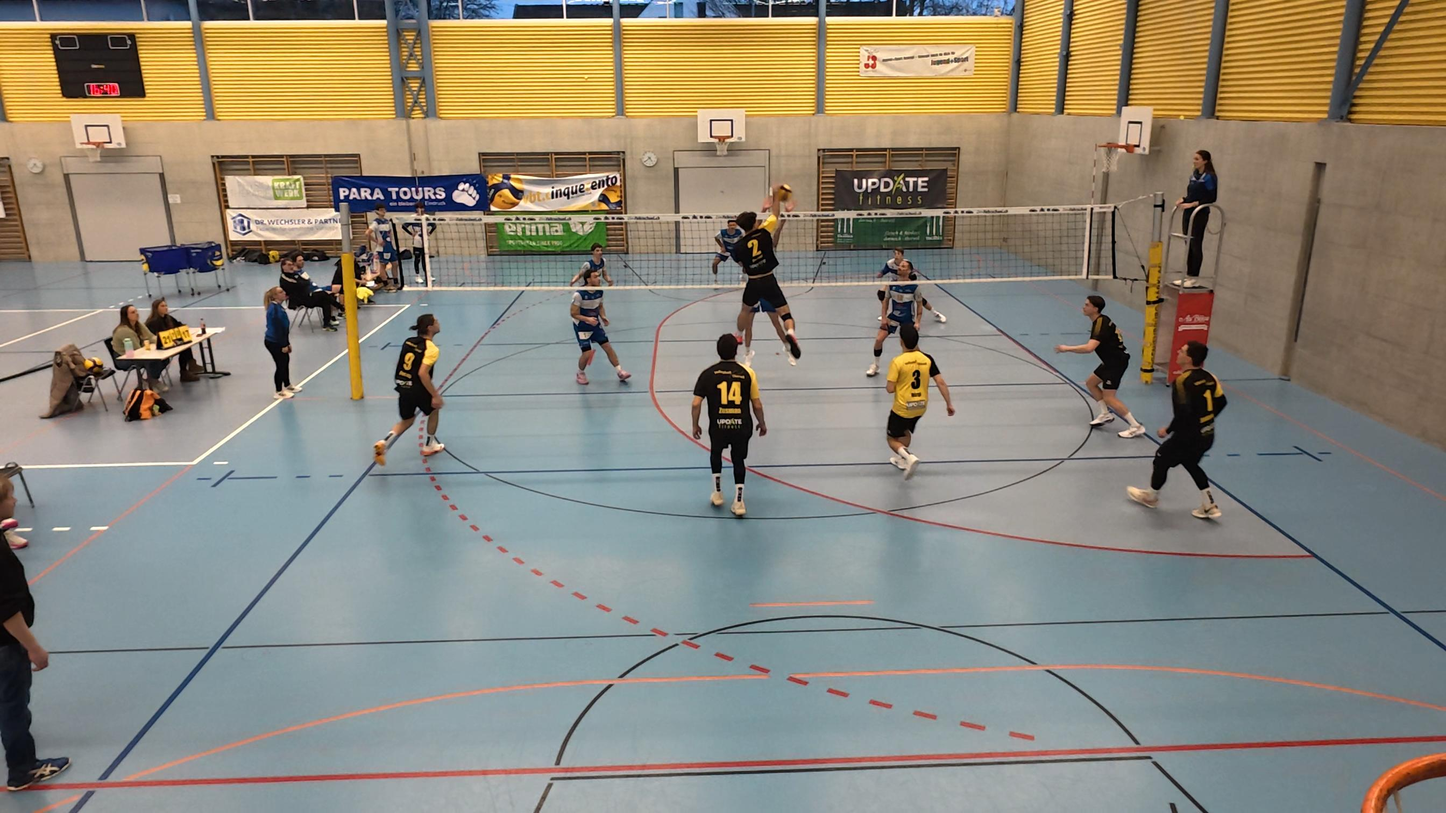Attack: (723, 187, 811, 366)
Block: (760, 182, 800, 254)
Player: (1126, 343, 1225, 521), (691, 334, 768, 517), (1059, 294, 1143, 438), (368, 314, 445, 466), (879, 324, 953, 474), (572, 268, 634, 387), (865, 262, 928, 379), (877, 242, 949, 319), (707, 213, 743, 289), (571, 241, 617, 285)
ball: (771, 182, 792, 199)
